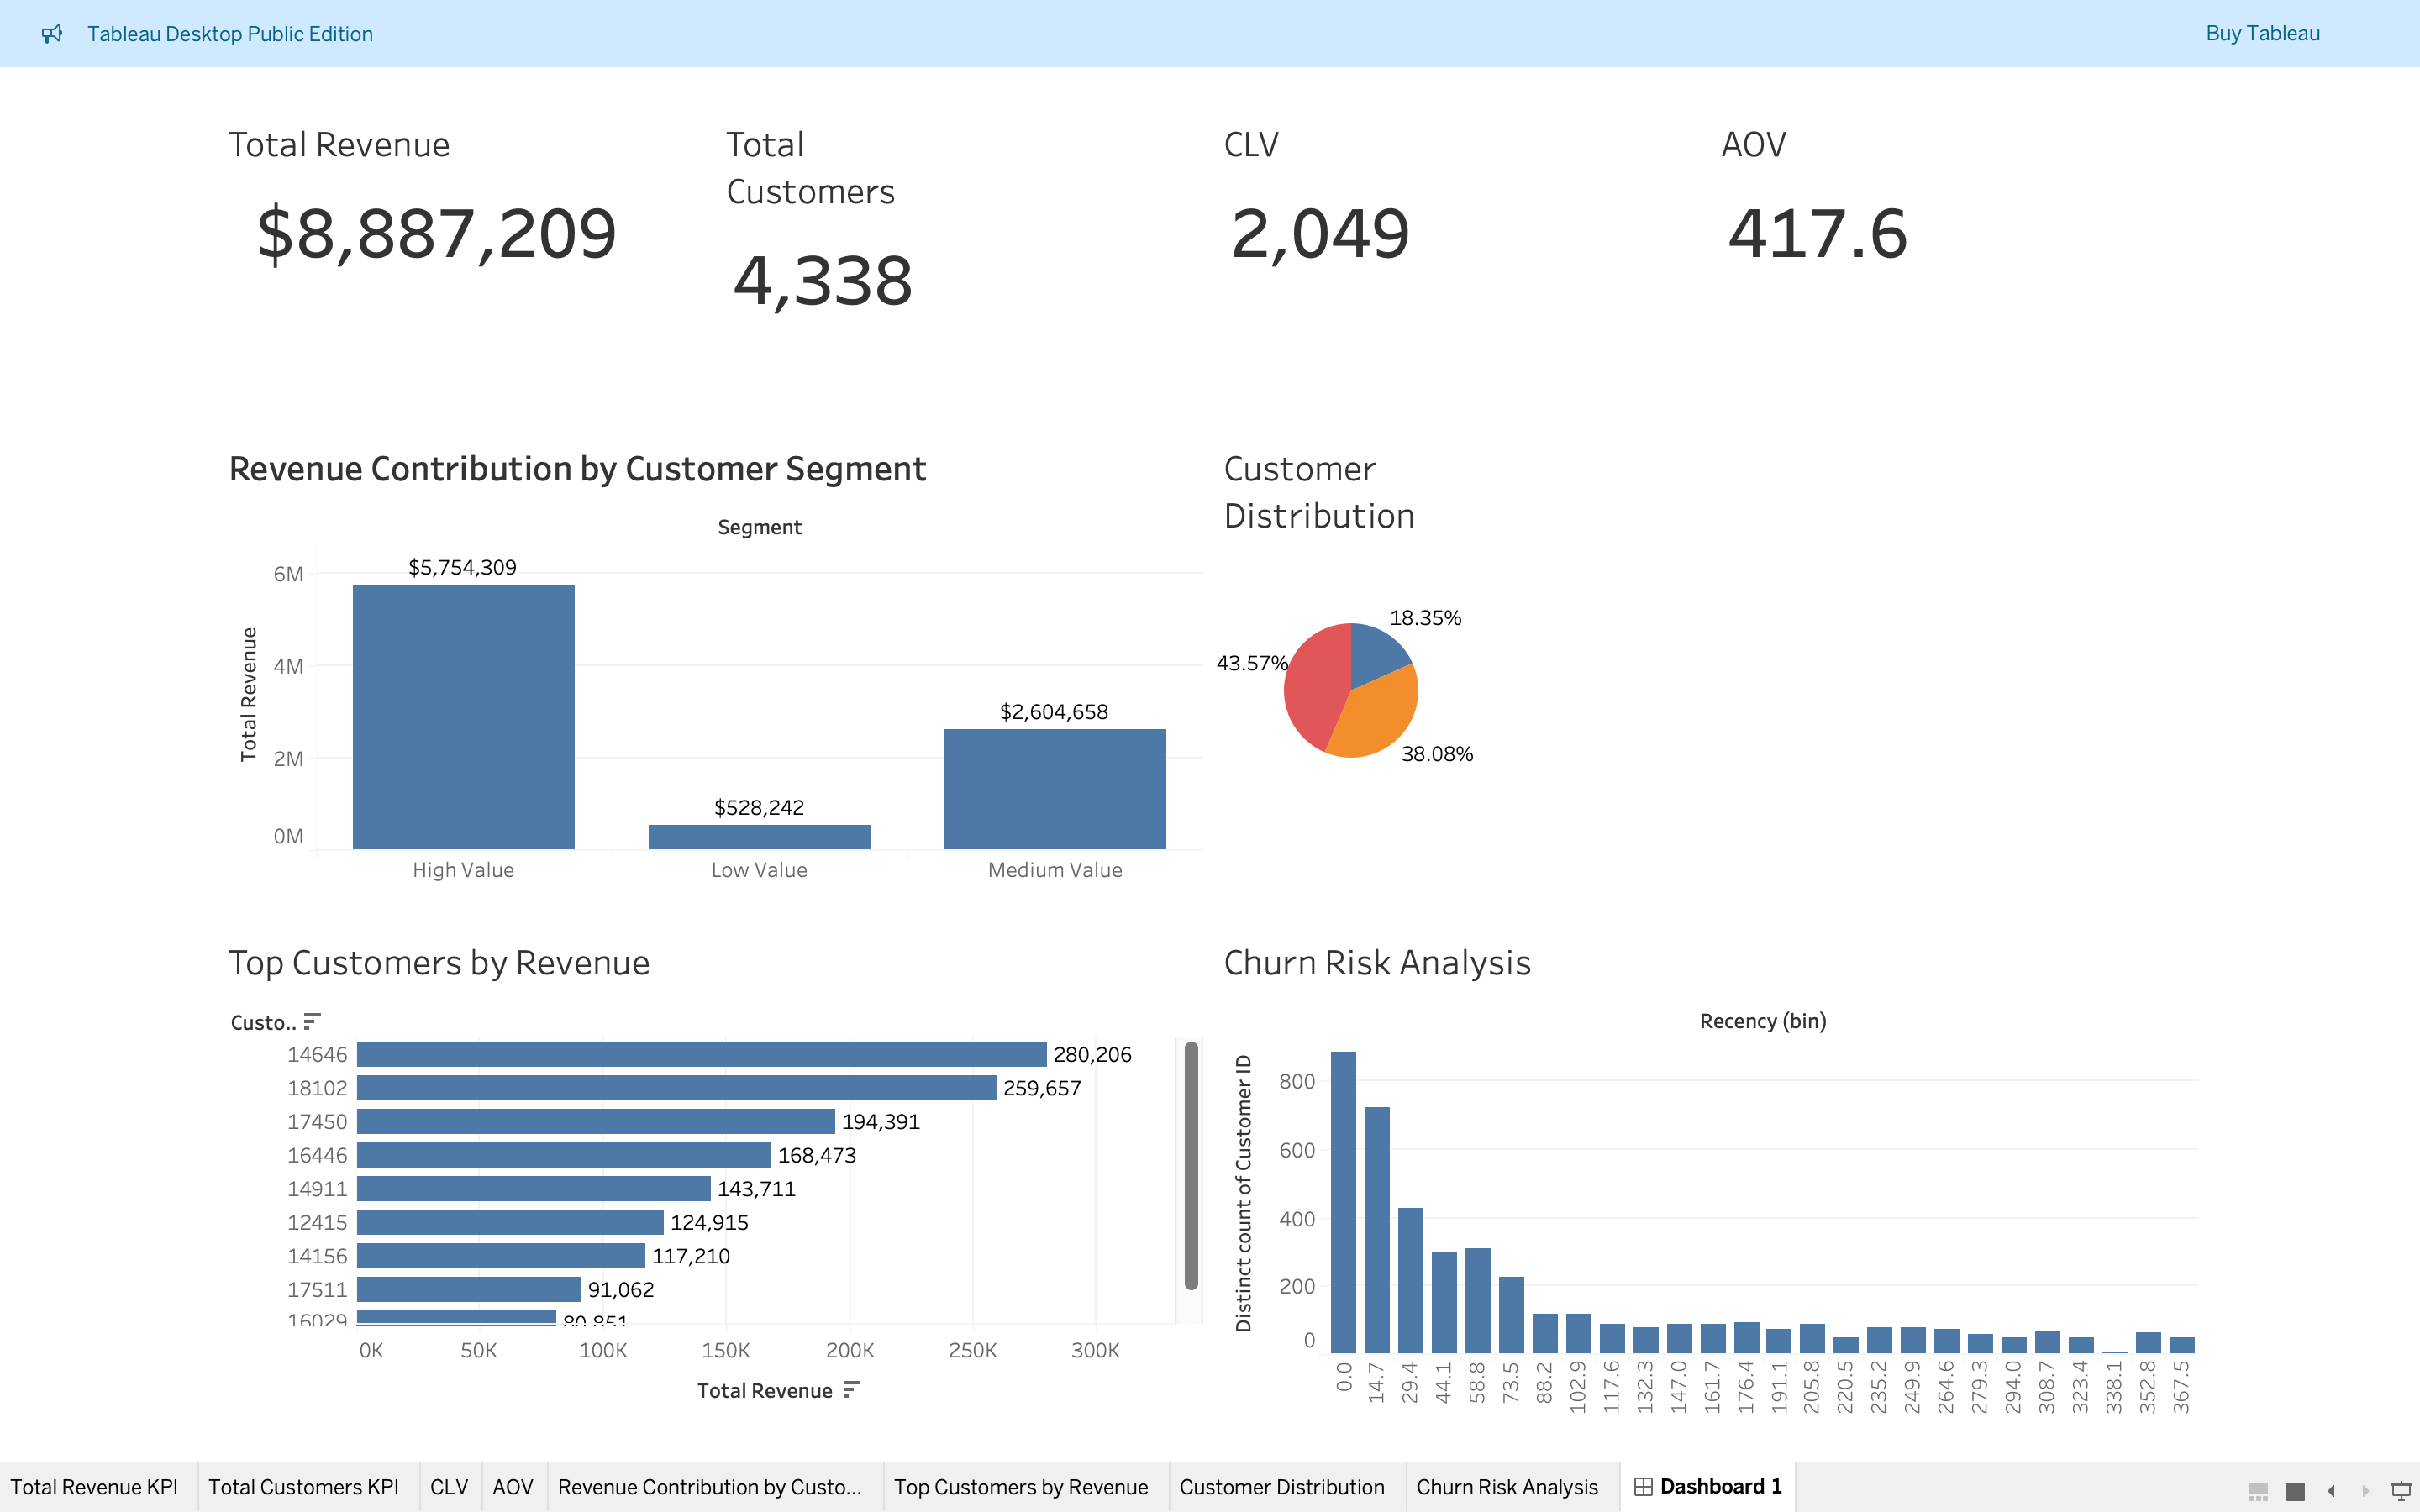

What the dashboard file says about the page in this screenshot:
{"tool":"tableau","page":{"name":"Dashboard 1","canvas":[1200,800],"ordinal":0},"visuals":[{"type":"title","box":[8,8,1184,41]},{"type":"worksheet","title":"Total Revenue KPI","mark":"Text","box":[8,49,296,182.5]},{"type":"worksheet","title":"Total Customers KPI","mark":"Automatic","box":[304,49,296,182.5]},{"type":"worksheet","title":"CLV","mark":"Automatic","box":[600,49,296,182.5]},{"type":"worksheet","title":"AOV","mark":"Automatic","box":[896,49,296,106]},{"type":"worksheet","title":"Revenue Contribution by Customer Segment","mark":"Automatic","rows":["Total_Revenue"],"cols":["Segment"],"box":[8,231.5,592,278.9]},{"type":"worksheet","title":"Customer Distribution","mark":"Pie","box":[600,231.5,592,239]},{"type":"worksheet","title":"Top Customers by Revenue","mark":"Automatic","rows":["CustomerID"],"cols":["Total_Revenue"],"box":[8,510.5,592,281.5]},{"type":"worksheet","title":"Churn Risk Analysis","mark":"Automatic","rows":["CustomerID"],"cols":["Recency (bin)"],"box":[600,510.5,592,281.5]}]}

Visuals, with their boxes on the page's 1200x800 design canvas (x1, y1, x2, y2). These are canvas units, not pixel positions in the 2420x1512 screenshot, which may show the page scaled, cropped or inside an application window:
title: 8:8:1192:49
"Total Revenue KPI" worksheet (Text marks): 8:49:304:232
"Total Customers KPI" worksheet: 304:49:600:232
"CLV" worksheet: 600:49:896:232
"AOV" worksheet: 896:49:1192:155
"Revenue Contribution by Customer Segment" worksheet: 8:232:600:510
"Customer Distribution" worksheet (Pie marks): 600:232:1192:470
"Top Customers by Revenue" worksheet: 8:510:600:792
"Churn Risk Analysis" worksheet: 600:510:1192:792
